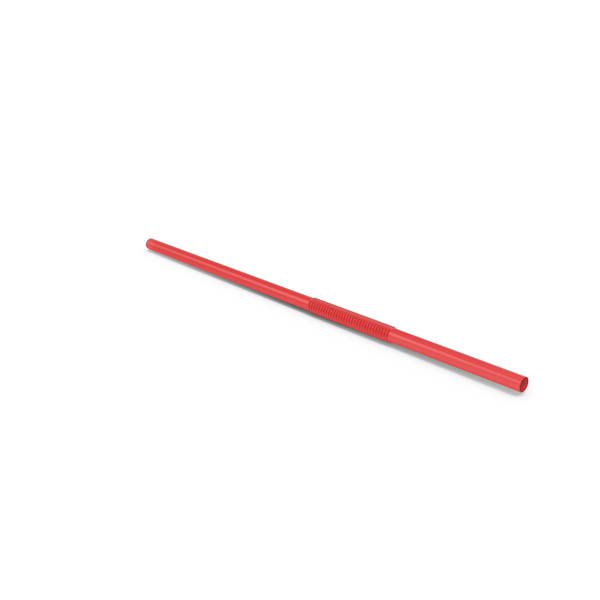Drinking Straw: (140, 232, 533, 400)
